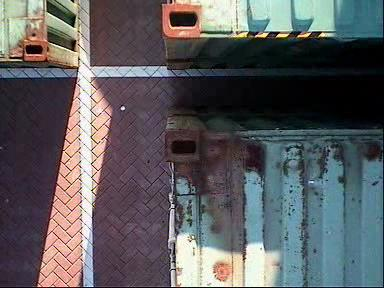groundmarker_2: (190, 139, 263, 252)
